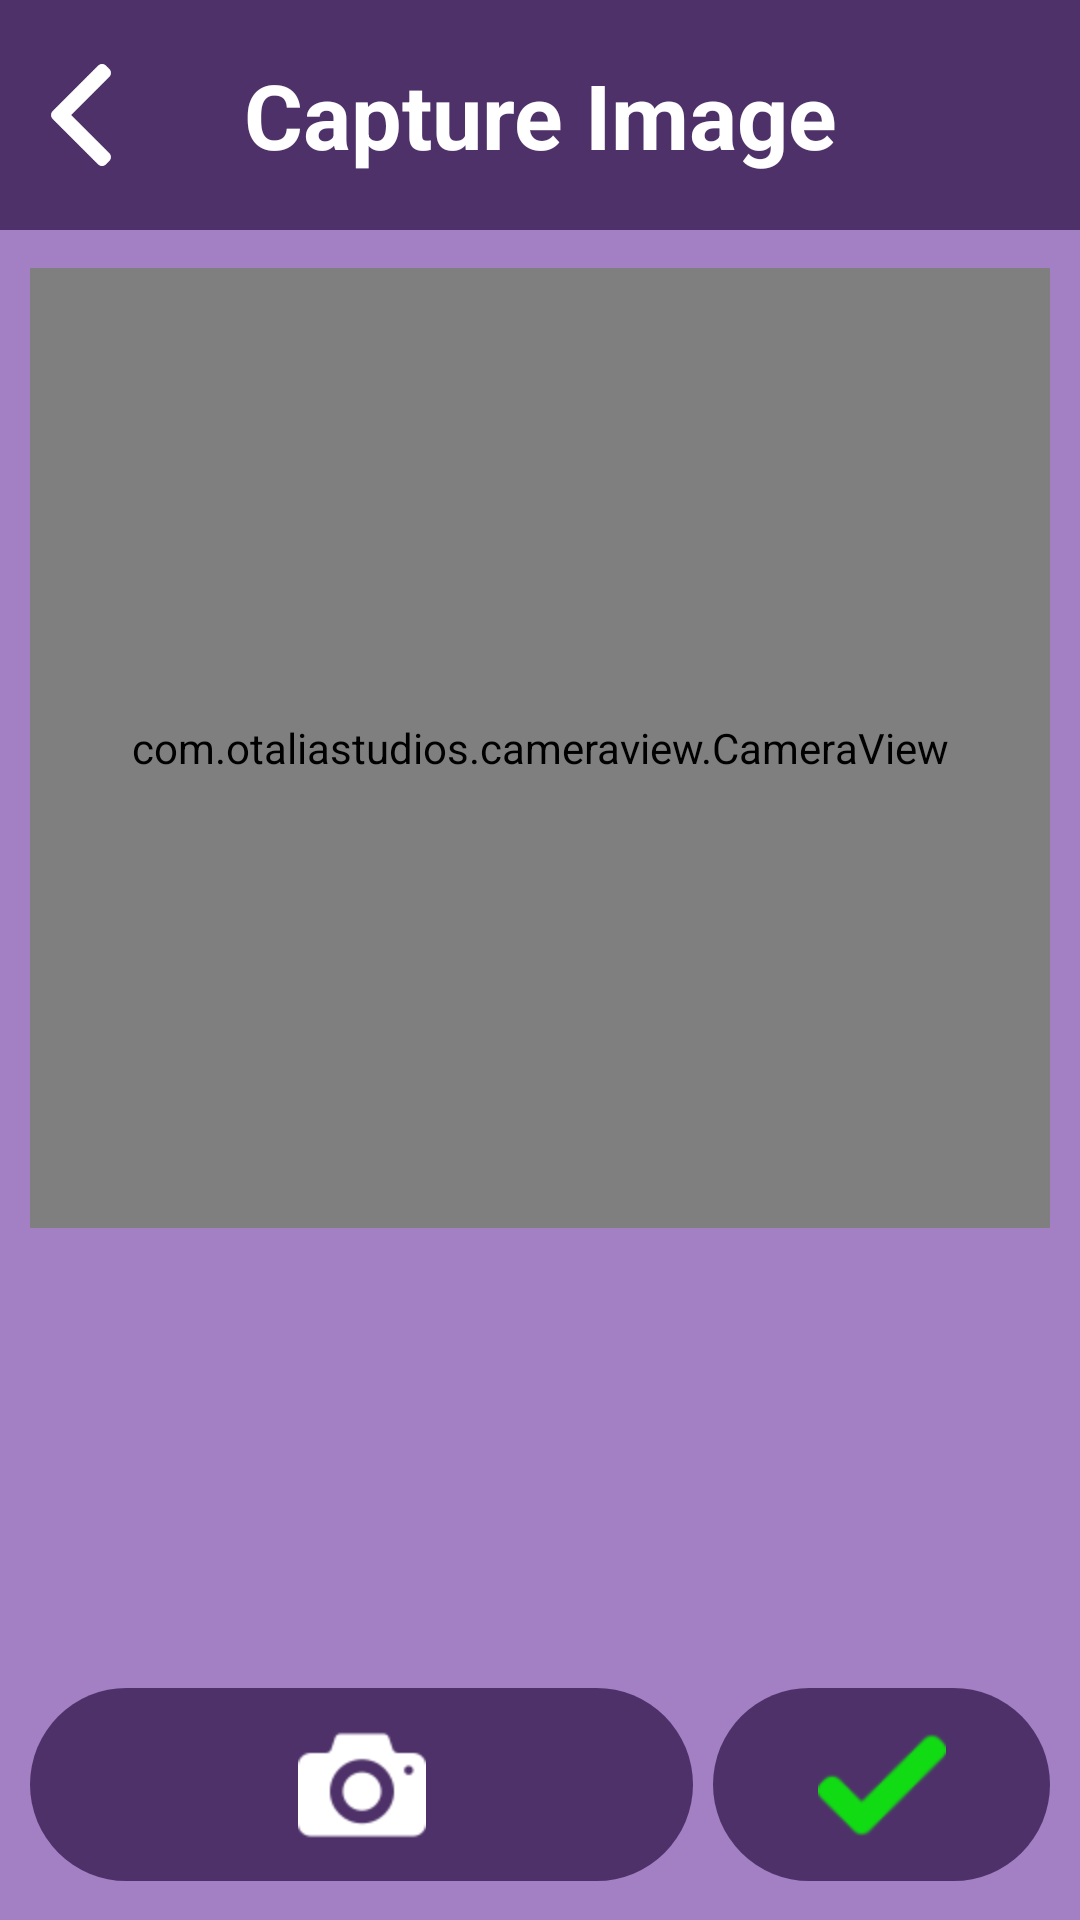

Screen size 1080x1920. Icon name, then its box in pixels as [x1=x1, y1=y1, x2=x2, y2=y2]:
activity back arrow: [x1=51, y1=64, x2=111, y2=166]
submit: [x1=713, y1=1688, x2=1050, y2=1881]
